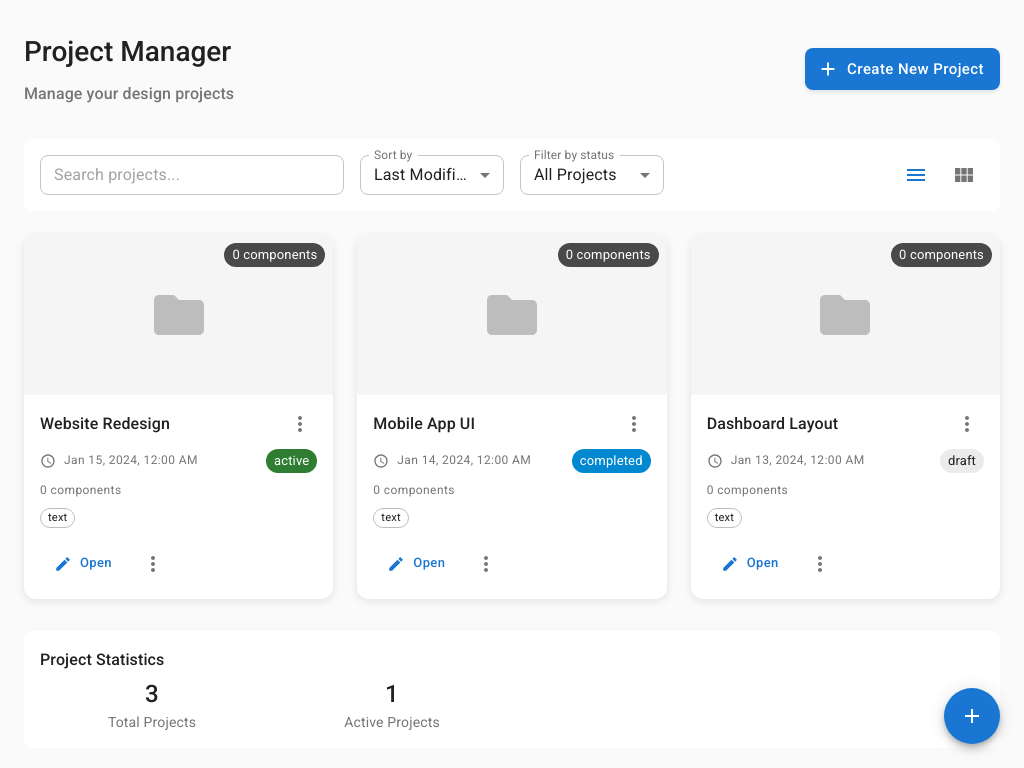
Scenario: ProjectManager › should filter projects by search term
Type "Website" into the field with placeholder "Search projects..." at (192,175), box left=40, top=155, right=344, bottom=195
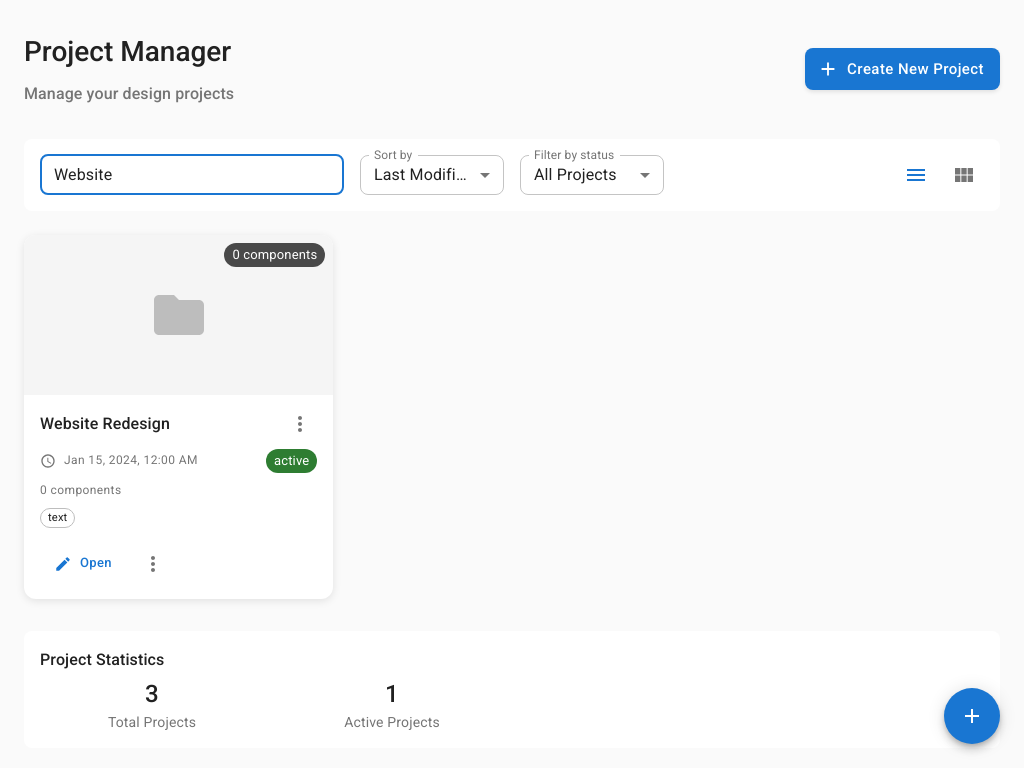
Expected: the heading "Website Redesign" is shown, left=40, top=414, right=170, bottom=433
Expected: the heading "Mobile App UI" is gone
